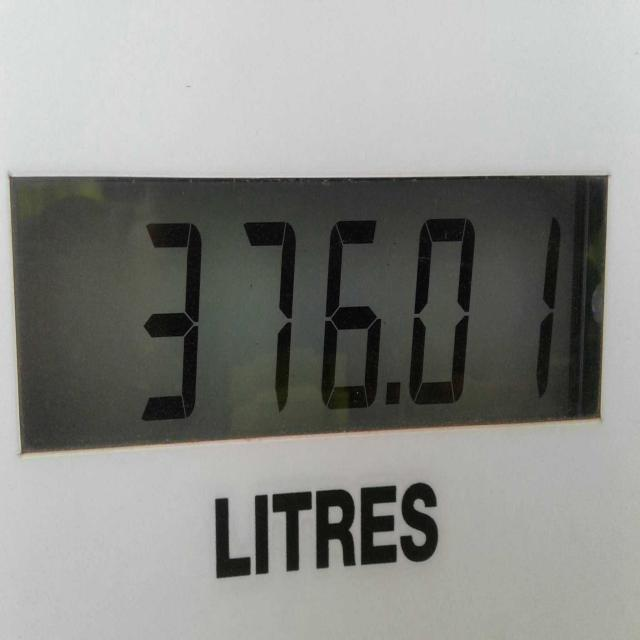.: (378, 364, 406, 421)
0: (400, 205, 487, 408)
1: (519, 212, 570, 396)
3: (132, 215, 218, 441)
6: (317, 208, 388, 412)
7: (230, 214, 305, 415)
